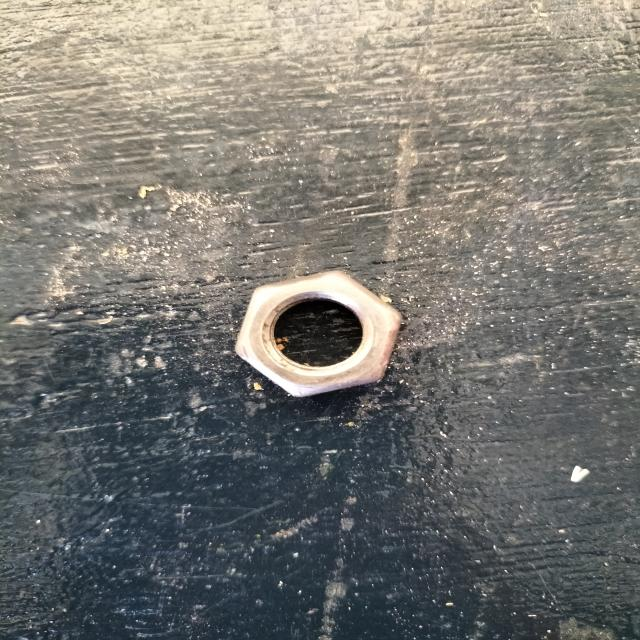nuts: (235, 270, 402, 396)
